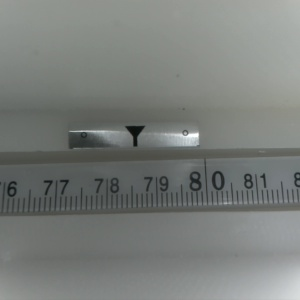0: (211, 171, 225, 190)
1: (259, 173, 266, 188)
6: (6, 181, 16, 197)
7: (41, 180, 52, 195), (143, 176, 153, 192), (94, 178, 104, 193), (58, 179, 68, 194)
8: (188, 171, 202, 191), (242, 173, 252, 189), (109, 177, 119, 193), (293, 172, 300, 188)
9: (158, 176, 169, 192)
finger: (123, 126, 145, 148)
